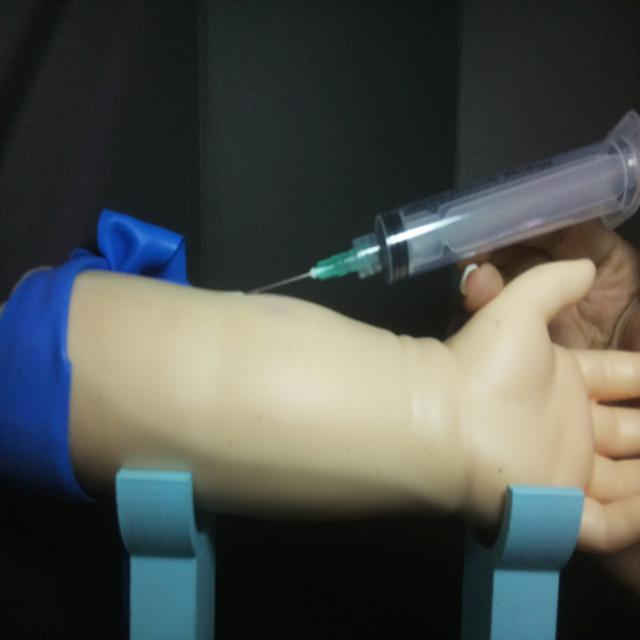18deg: (243, 105, 638, 299)
